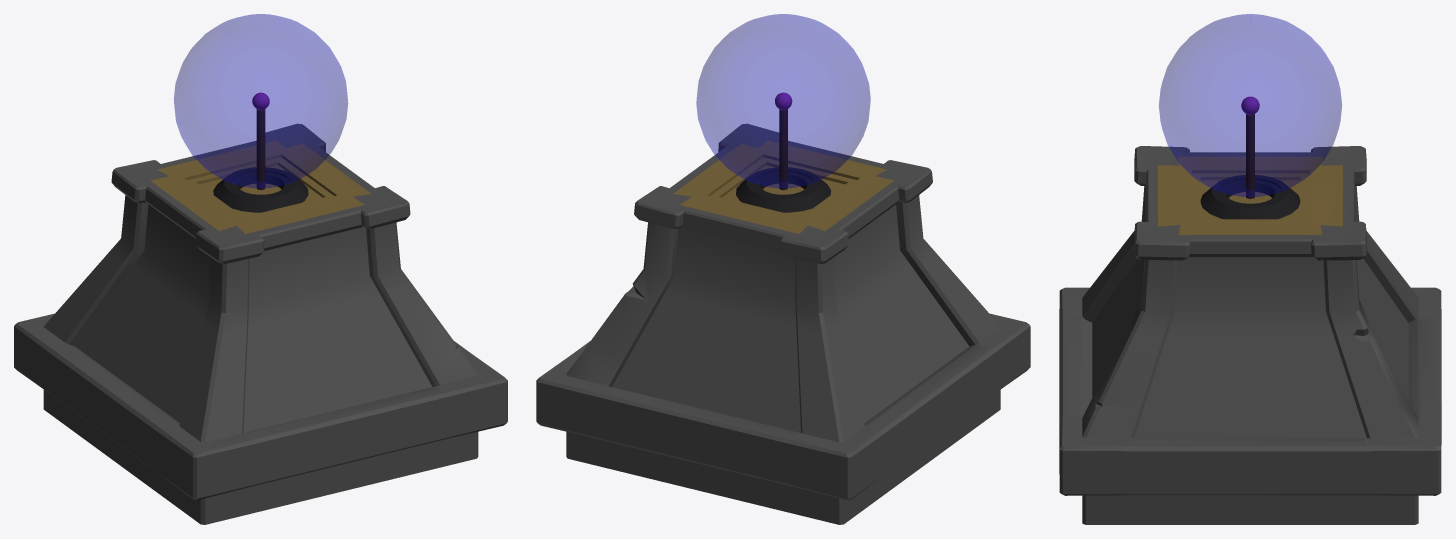
File: Charger_low.FBX
The picture shows the model from 3 angles, left to right: view 1: azimuth 30°, elevation 25°; view 2: azimuth 150°, elevation 25°; view 3: azimuth 270°, elevation 25°; orthographic projection. The views are drawn at different scales.
Parts seen in each view (by area): view 1: ChargerMetalBase001; view 2: ChargerMetalBase001; view 3: ChargerMetalBase001.
Boxes of the visible parts, bbox=[...] form: ChargerMetalBase001: bbox=[14, 14, 507, 524]; ChargerMetalBase001: bbox=[536, 14, 1030, 524]; ChargerMetalBase001: bbox=[1059, 14, 1441, 524].
Size of the model in its own units: 167 by 208 by 167.
